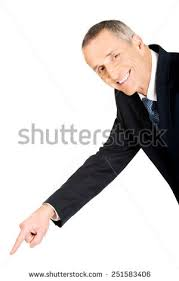hand: (3, 199, 64, 256)
